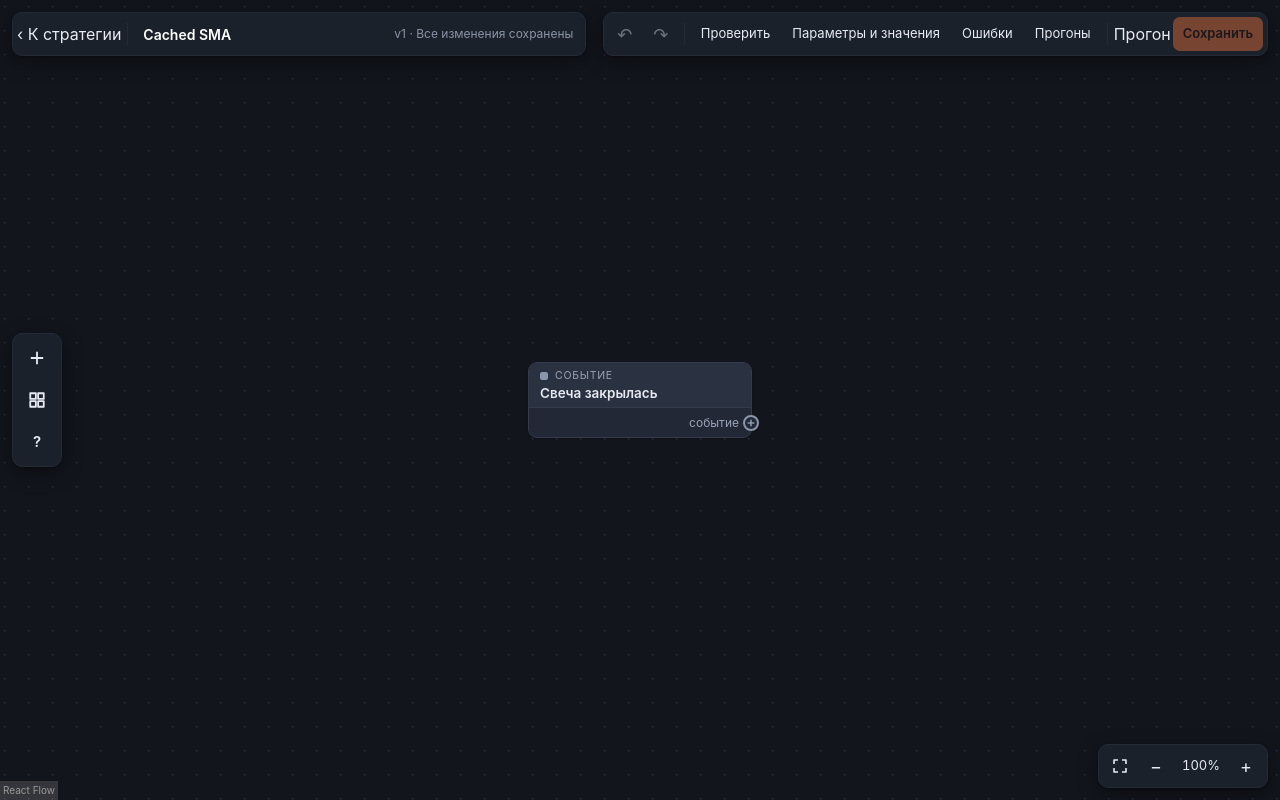
Test: cached editor › lists the running bots and saves again once the switch is confirmed
The image size is (1280, 800).
Replace the text in the field named "Название стратегии" with "Changed" at [262, 34], box [134,18,390,50]
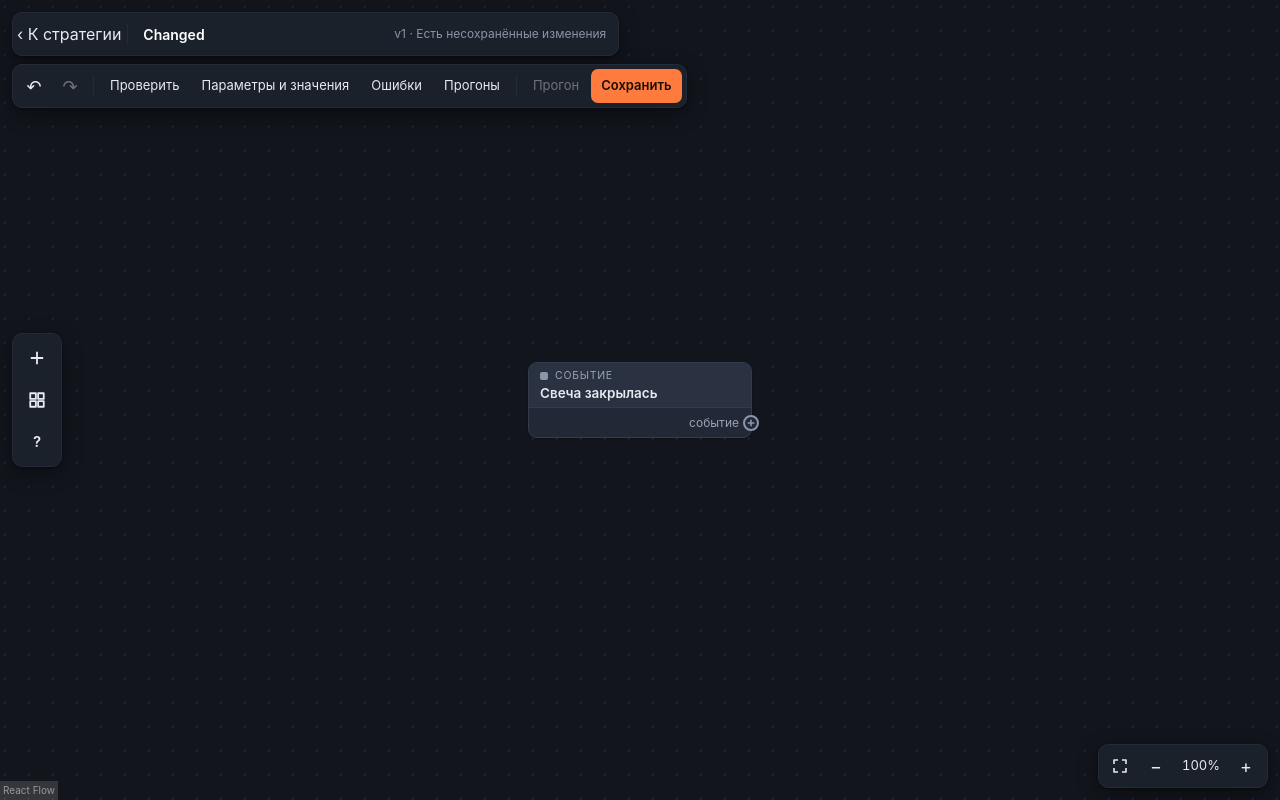
Click the button "Сохранить" at [636, 86], box [591,69,682,103]
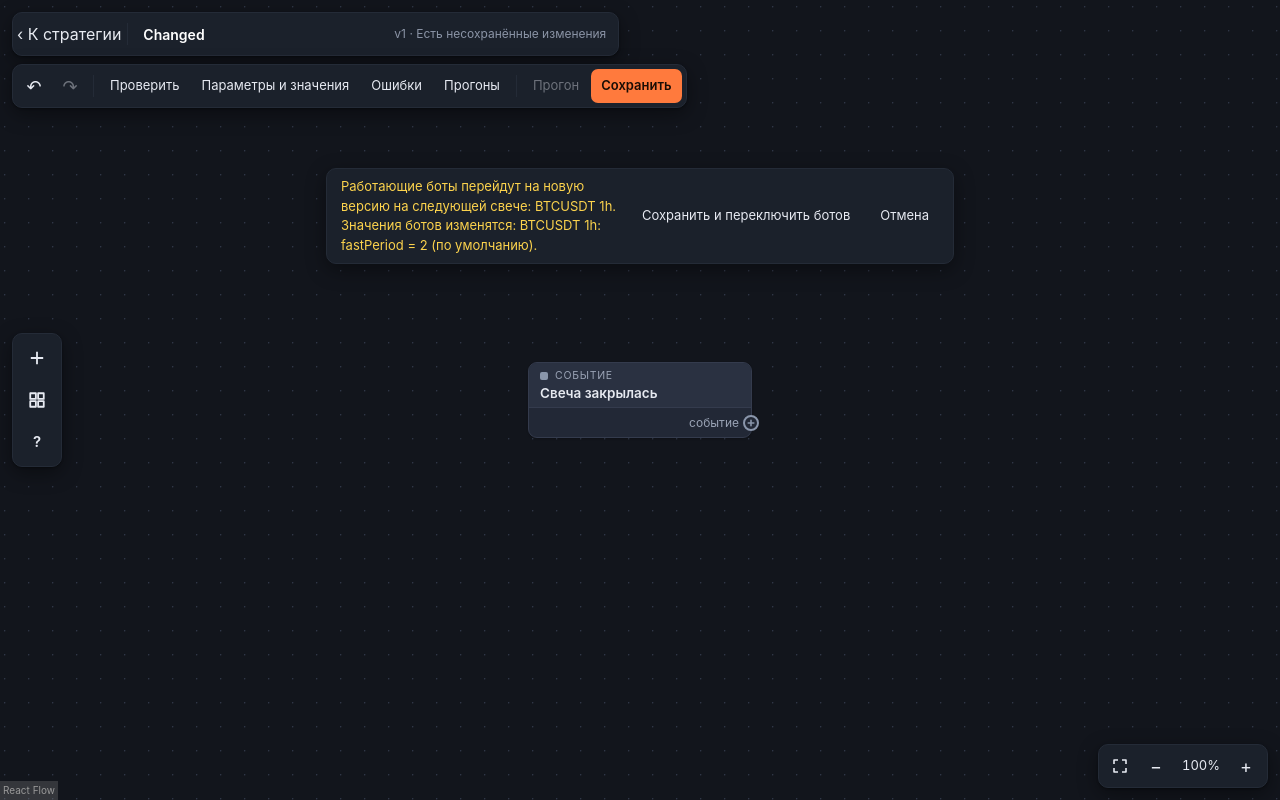
expect the dialog "Работающие боты" shows "BTCUSDT 1h": met, box [528,198,612,214]
expect the dialog "Работающие боты" shows "Значения ботов изменятся: BTCUSDT 1h: fastPeriod = 2 (по умолчанию).": met, box [341,217,601,252]
Click the button "Сохранить и переключить ботов" at [746, 216], box [632,199,860,233]
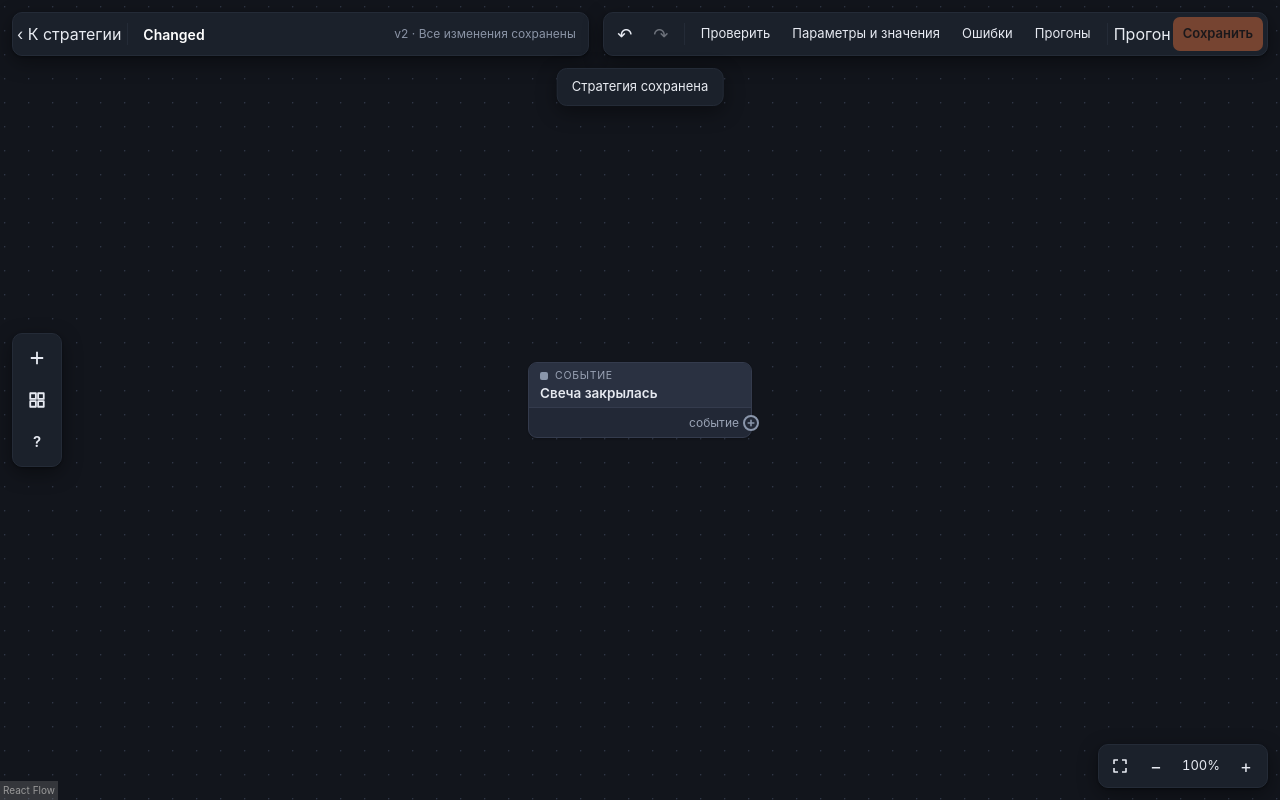
expect the text "v2" is shown: met, box [394,26,408,41]
expect the dialog is gone: met
